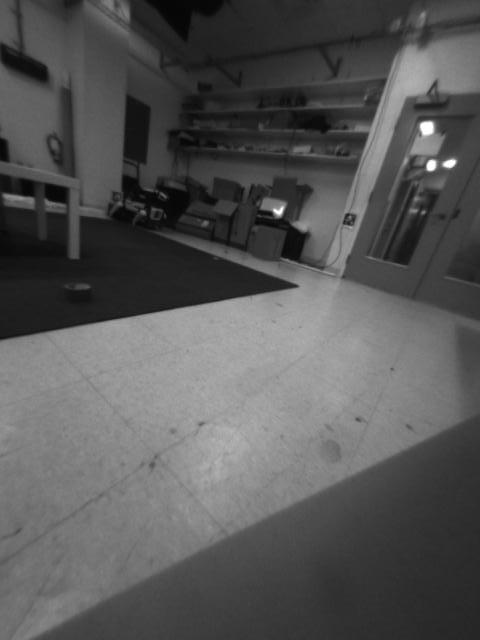dogtoy: (50, 274, 103, 305)
